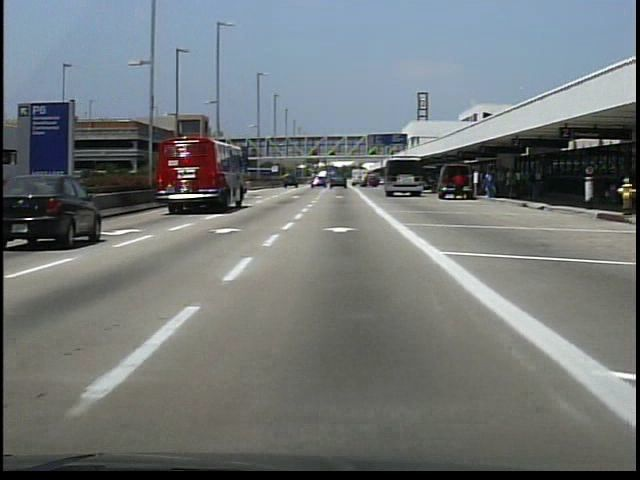person: (453, 167, 468, 204)
